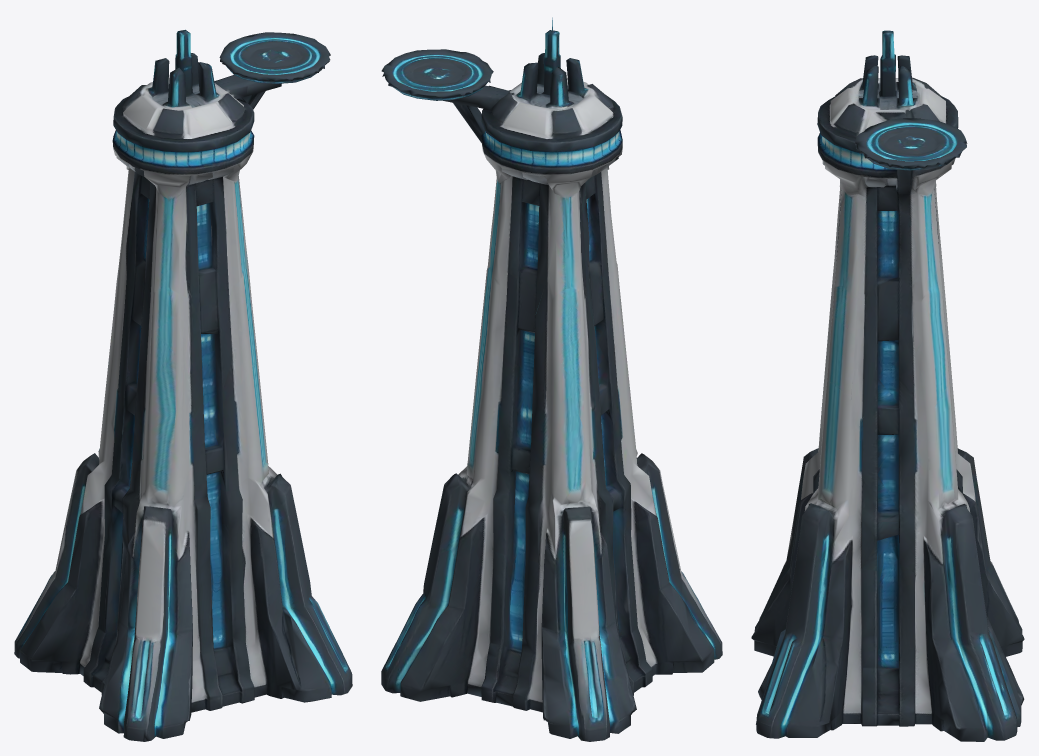
The model's file is scifi-tower.glb.
3 renders of one model, left to right at view 1: azimuth 30°, elevation 25°; view 2: azimuth 150°, elevation 25°; view 3: azimuth 270°, elevation 25°, orthographic. The views are drawn at different scales.
Visible parts, largest first — view 1: scifi-tower; view 2: scifi-tower; view 3: scifi-tower.
Boxes of the visible parts, bbox=[...] form: scifi-tower: bbox=[14, 29, 352, 741]; scifi-tower: bbox=[381, 17, 722, 741]; scifi-tower: bbox=[751, 30, 1024, 741].
Size of the model in its own units: 17.17 by 40 by 14.78.
1 material, 1 textured.
